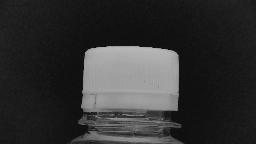Broken Ring: (80, 91, 104, 114)
Loose Cap: (76, 88, 186, 128)
